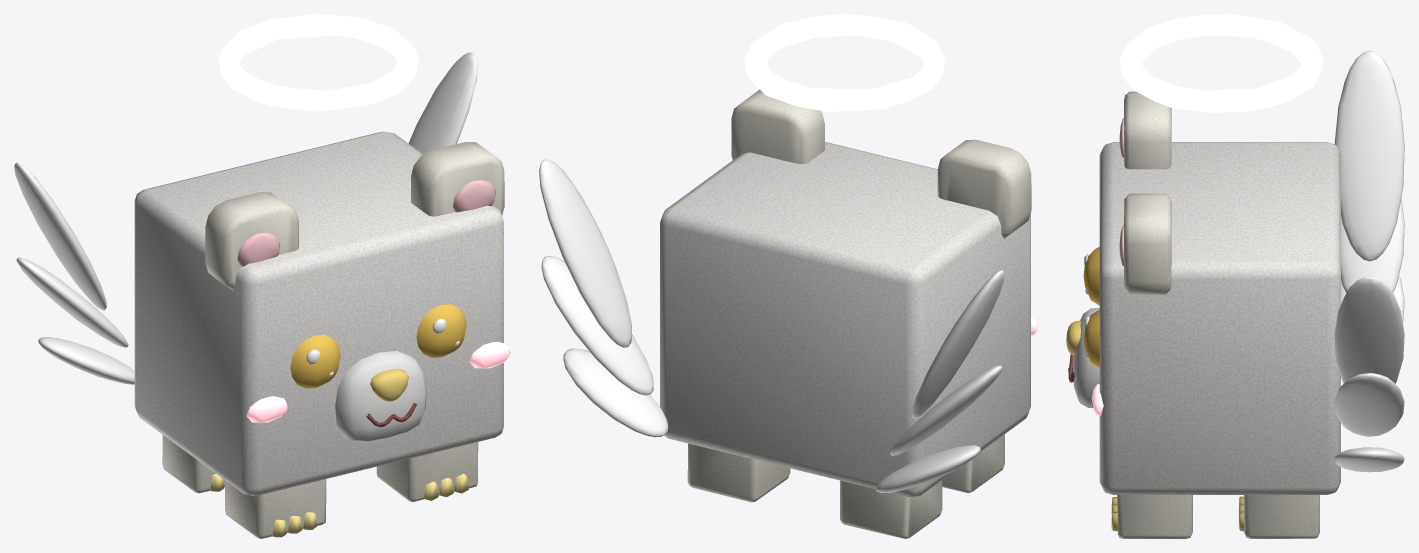
The model's file is Pet_Seraph.fbx.
3 renders of one model, left to right at view 1: azimuth 30°, elevation 25°; view 2: azimuth 150°, elevation 25°; view 3: azimuth 270°, elevation 25°, orthographic.
Visible parts, largest first — view 1: Pet_Seraph_body, Pet_Seraph_ears, Pet_Seraph_acc_halo, Pet_Seraph_feet, Pet_Seraph_muzzle, Pet_Seraph_eyes, Pet_Seraph_acc_wing10, Pet_Seraph_acc_wing-10, Pet_Seraph_acc_wing-11, Pet_Seraph_acc_wing-12, Pet_Seraph, Pet_Seraph_toes (+3 smaller); view 2: Pet_Seraph_body, Pet_Seraph_ears, Pet_Seraph_feet, Pet_Seraph_acc_halo, Pet_Seraph_acc_wing10, Pet_Seraph_acc_wing11, Pet_Seraph_acc_wing12, Pet_Seraph_acc_wing-10, Pet_Seraph_acc_wing-11, Pet_Seraph_acc_wing-12; view 3: Pet_Seraph_body, Pet_Seraph_acc_wing-10, Pet_Seraph_acc_halo, Pet_Seraph_ears, Pet_Seraph_feet, Pet_Seraph_acc_wing10, Pet_Seraph_acc_wing11, Pet_Seraph_acc_wing-11, Pet_Seraph_eyes, Pet_Seraph_acc_wing12, Pet_Seraph_muzzle, Pet_Seraph (+1 smaller).
Boxes of the visible parts, <box> form: Pet_Seraph_body: <box>134,131,503,495</box>; Pet_Seraph_ears: <box>205,142,504,290</box>; Pet_Seraph_acc_halo: <box>218,14,418,111</box>; Pet_Seraph_feet: <box>162,435,478,538</box>; Pet_Seraph_muzzle: <box>335,351,426,442</box>; Pet_Seraph_eyes: <box>290,304,466,388</box>; Pet_Seraph_acc_wing10: <box>408,52,477,154</box>; Pet_Seraph_acc_wing-10: <box>14,162,106,310</box>; Pet_Seraph_acc_wing-11: <box>16,257,128,347</box>; Pet_Seraph_acc_wing-12: <box>38,337,134,384</box>; Pet_Seraph: <box>432,179,510,368</box>; Pet_Seraph_toes: <box>209,473,468,537</box>; Pet_Seraph_body: <box>660,142,1030,496</box>; Pet_Seraph_ears: <box>731,89,1031,238</box>; Pet_Seraph_feet: <box>687,434,1004,538</box>; Pet_Seraph_acc_halo: <box>744,14,945,111</box>; Pet_Seraph_acc_wing10: <box>539,159,632,347</box>; Pet_Seraph_acc_wing11: <box>541,255,653,395</box>; Pet_Seraph_acc_wing12: <box>563,348,668,437</box>; Pet_Seraph_acc_wing-10: <box>912,270,1004,418</box>; Pet_Seraph_acc_wing-11: <box>890,365,1002,455</box>; Pet_Seraph_acc_wing-12: <box>876,445,980,492</box>; Pet_Seraph_body: <box>1099,142,1340,494</box>; Pet_Seraph_acc_wing-10: <box>1334,50,1404,261</box>; Pet_Seraph_acc_halo: <box>1119,14,1323,112</box>; Pet_Seraph_ears: <box>1124,91,1171,294</box>; Pet_Seraph_feet: <box>1117,495,1319,538</box>; Pet_Seraph_acc_wing10: <box>1334,276,1404,383</box>; Pet_Seraph_acc_wing11: <box>1334,373,1404,436</box>; Pet_Seraph_acc_wing-11: <box>1341,199,1404,292</box>; Pet_Seraph_eyes: <box>1083,247,1099,368</box>; Pet_Seraph_acc_wing12: <box>1334,447,1404,472</box>; Pet_Seraph_muzzle: <box>1073,307,1099,408</box>; Pet_Seraph: <box>1084,225,1123,415</box>.
Size of the model in its own units: 3.82 by 3.4 by 2.4.
Materials: 13 (4 with a texture image).
